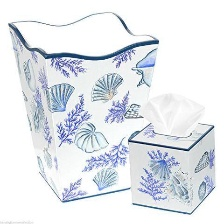plastic_box: (2, 6, 164, 207), (122, 115, 221, 217)
tissue: (132, 86, 209, 140)
